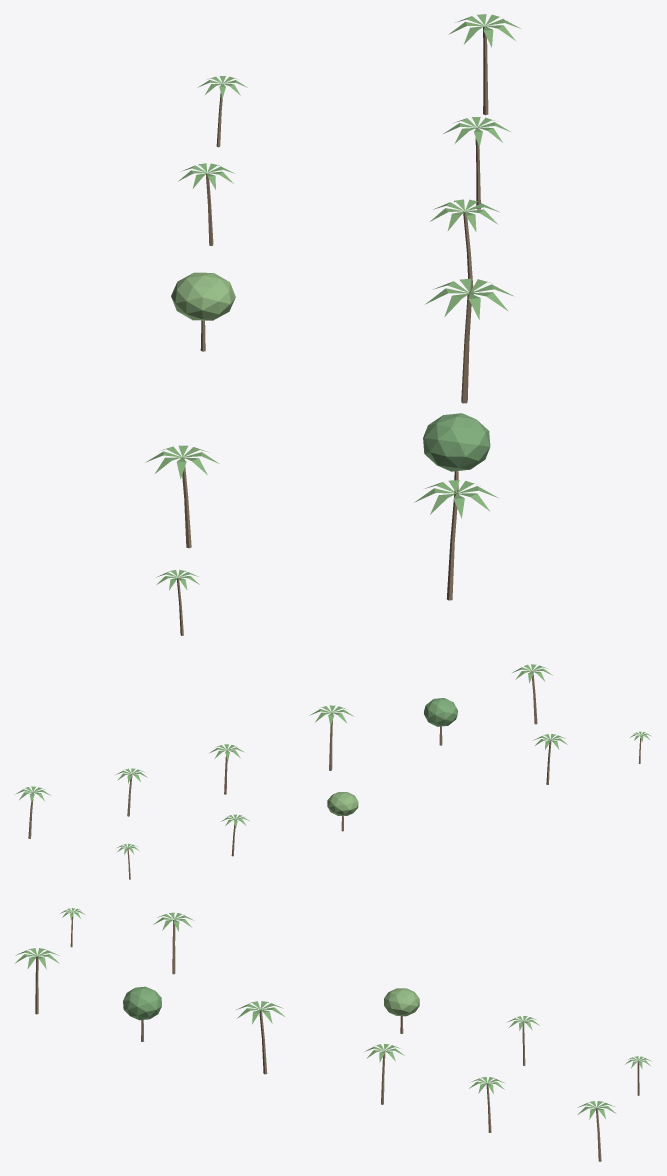
File: nature_1_-10.glb
The picture shows the model from 3 angles, top to bottom: view 1: azimuth 30°, elevation 25°; view 2: azimuth 150°, elevation 25°; view 3: azimuth 270°, elevation 25°; orthographic projection. The views are drawn at different scales.
Visible parts, largest first — view 1: palm_leaf, trunk, foliage_a, foliage_b; view 2: palm_leaf, trunk, foliage_a, foliage_b; view 3: palm_leaf, trunk, foliage_a, foliage_b.
Part boxes in pixels (x1=…): palm_leaf: x1=145, y1=14, x2=520, y2=590; trunk: x1=177, y1=26, x2=488, y2=635; foliage_a: x1=423, y1=413, x2=490, y2=471; foliage_b: x1=171, y1=272, x2=235, y2=320; palm_leaf: x1=14, y1=664, x2=651, y2=854; trunk: x1=28, y1=671, x2=641, y2=879; foliage_a: x1=424, y1=698, x2=457, y2=726; foliage_b: x1=327, y1=792, x2=358, y2=815; palm_leaf: x1=15, y1=908, x2=651, y2=1119; trunk: x1=35, y1=915, x2=639, y2=1161; foliage_a: x1=123, y1=986, x2=161, y2=1020; foliage_b: x1=384, y1=988, x2=419, y2=1016.
Size of the model in its own units: 97.55 by 13.32 by 115.
